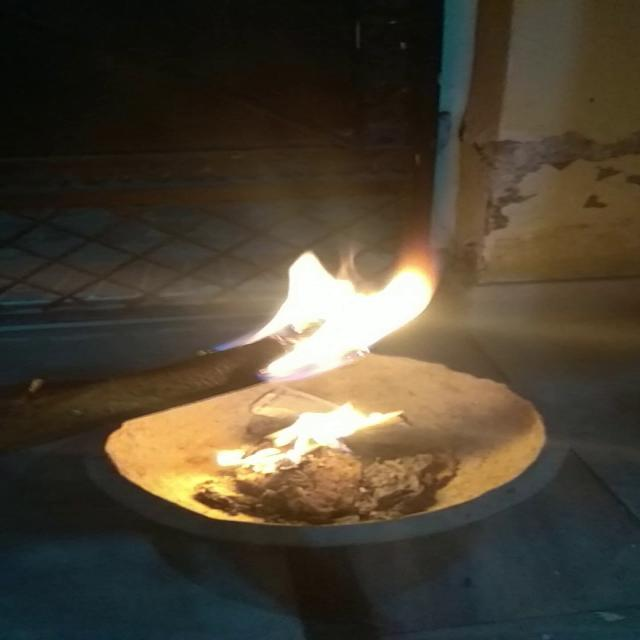fire: (242, 251, 466, 478)
